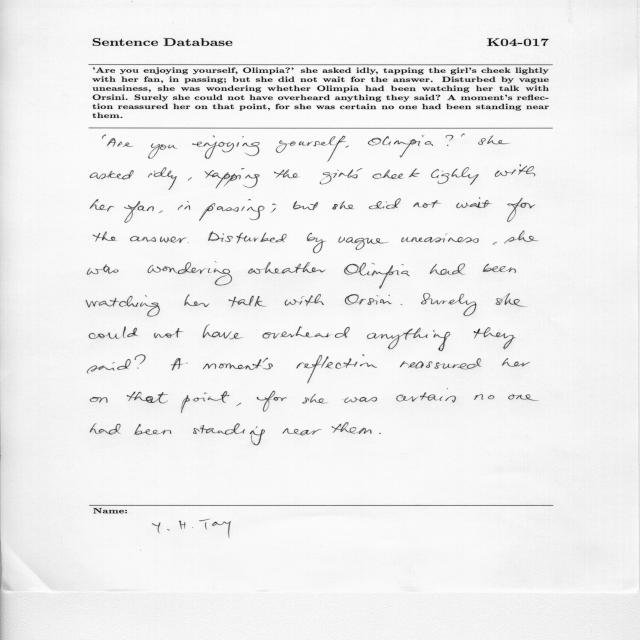word: (304, 355, 377, 384), (148, 262, 232, 286), (367, 328, 450, 351), (276, 136, 346, 162), (344, 263, 410, 289), (192, 135, 260, 159), (86, 295, 160, 317), (193, 424, 265, 446), (368, 135, 433, 158), (199, 199, 264, 221), (421, 293, 476, 316), (203, 358, 304, 370), (262, 326, 350, 339), (205, 168, 260, 188), (181, 391, 229, 413), (208, 231, 287, 243), (248, 262, 326, 274), (474, 327, 516, 349), (400, 359, 482, 370), (431, 167, 479, 185), (396, 389, 456, 403), (401, 233, 479, 243), (320, 168, 363, 184), (507, 198, 535, 222), (148, 167, 177, 190), (124, 201, 154, 223), (87, 359, 131, 374), (339, 237, 389, 250), (89, 326, 139, 339), (257, 391, 287, 412), (203, 325, 243, 340), (373, 168, 420, 179), (345, 294, 392, 305), (127, 392, 168, 404), (495, 165, 535, 177), (332, 422, 372, 434), (285, 294, 324, 306), (149, 143, 178, 159), (504, 231, 539, 244), (229, 296, 266, 308), (496, 293, 527, 307), (430, 263, 465, 275), (135, 424, 172, 435), (130, 236, 187, 243), (307, 233, 326, 254), (90, 170, 134, 179), (456, 198, 492, 209), (369, 198, 401, 209), (88, 264, 119, 275), (90, 424, 121, 435), (185, 294, 210, 307), (478, 135, 510, 145), (483, 264, 516, 273), (154, 328, 183, 338), (90, 199, 114, 211), (283, 429, 323, 436), (302, 394, 328, 404), (502, 358, 530, 367), (93, 232, 117, 242), (107, 138, 133, 147), (274, 170, 299, 179), (293, 201, 318, 210), (413, 200, 441, 208), (508, 394, 538, 401), (171, 358, 188, 370), (332, 201, 354, 210), (344, 397, 377, 403), (135, 355, 146, 369), (474, 394, 494, 400), (178, 201, 190, 210), (90, 397, 108, 403), (446, 135, 453, 146), (271, 204, 277, 213), (188, 177, 192, 181), (103, 134, 106, 139), (236, 403, 241, 406), (345, 145, 349, 148), (461, 134, 465, 137), (159, 211, 163, 214), (493, 242, 497, 245), (401, 304, 403, 305), (379, 433, 381, 434), (188, 243, 189, 244)
